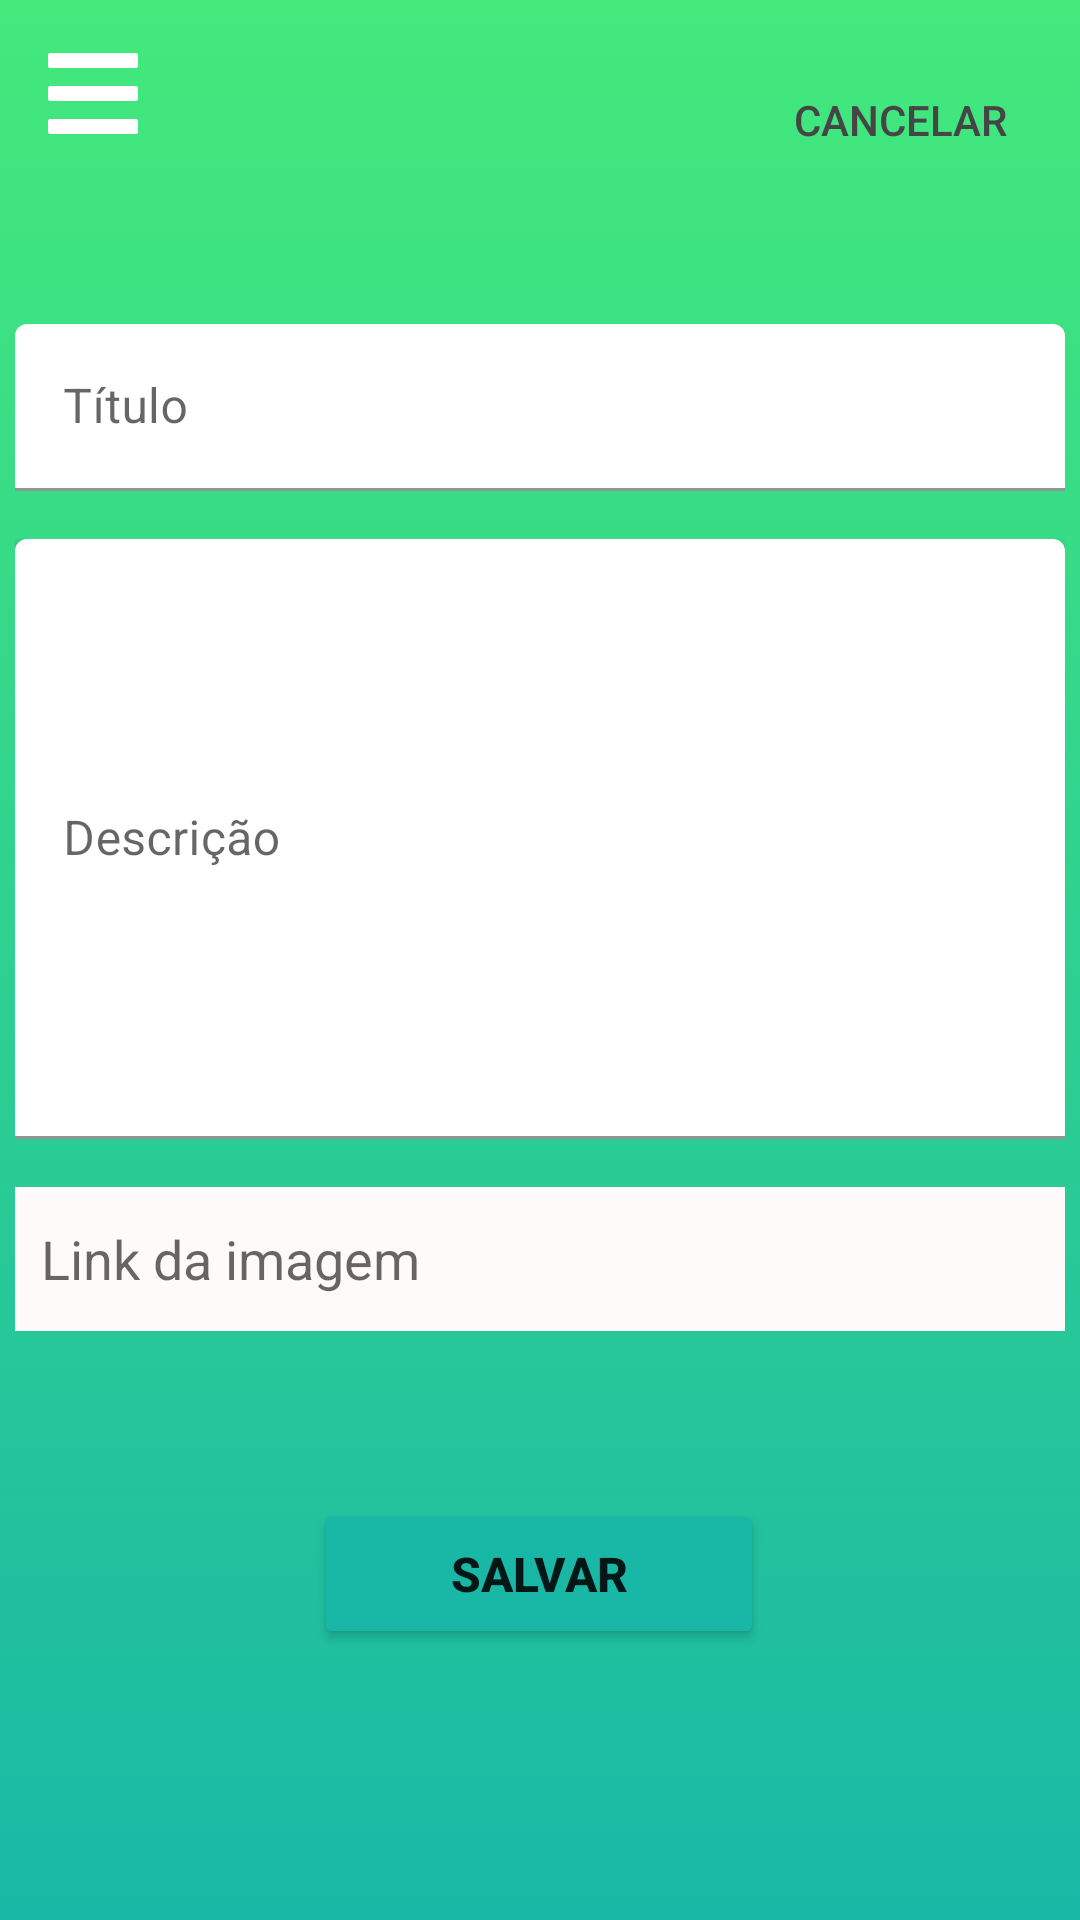

Icons on this 1080 × 1920 Android screen, each with the point to tap as [x,y]:
menu: [93,93]
